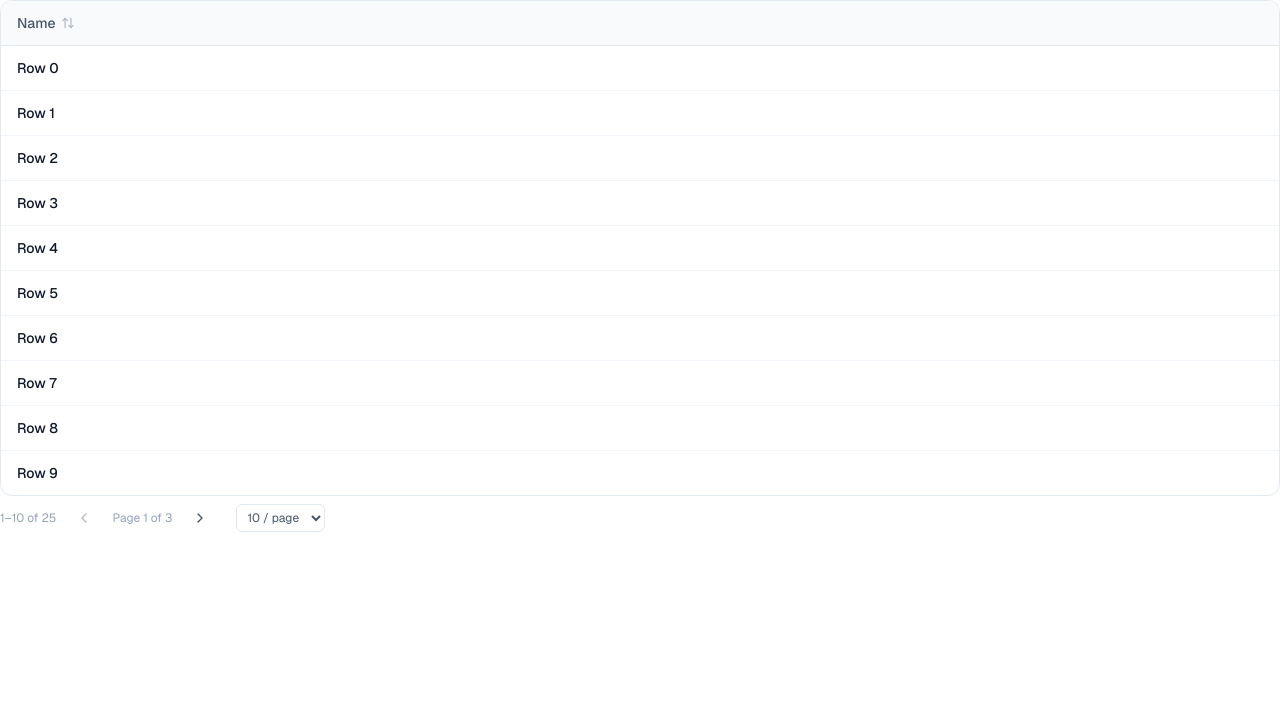
Test: DataTable › changes page size via the rows-per-page selector
The width and height of the screenshot is (1280, 720).
Step 1. Select "25 / page" in the dropdown named "Rows per page" → (281, 518), box 236,504 -> 325,532
(page scrolled)
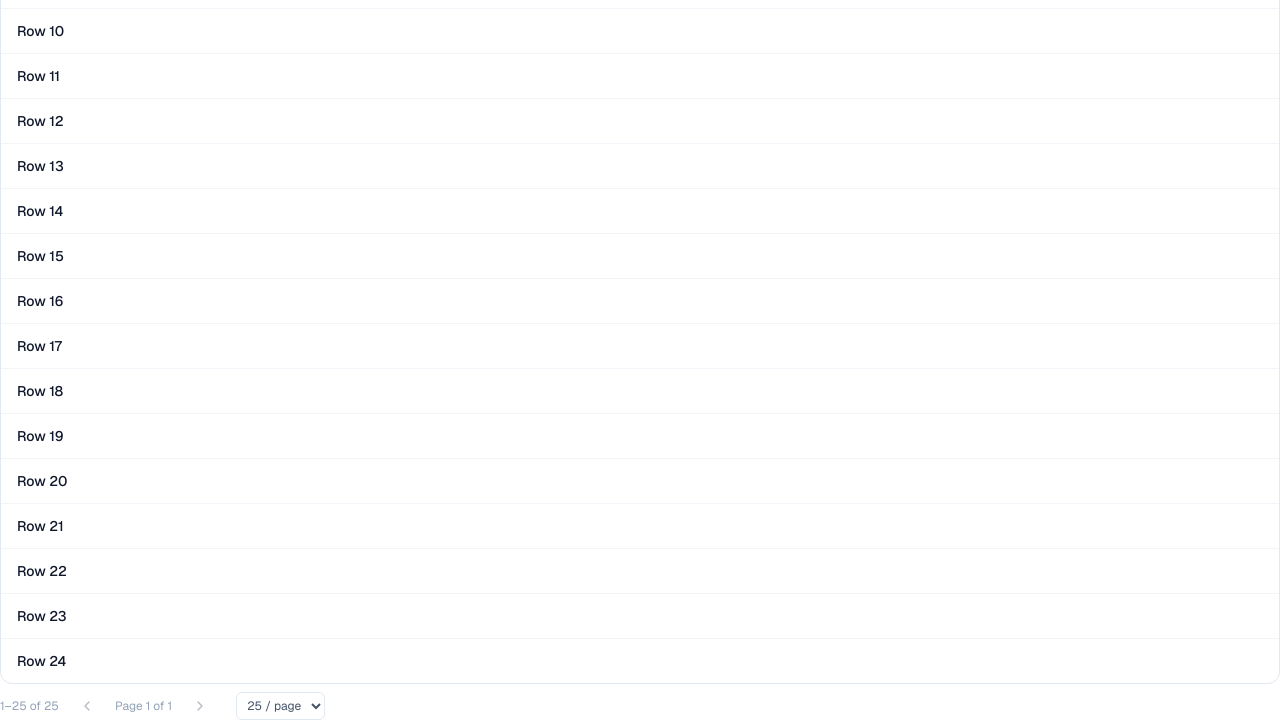
Expected: the text "1–25 of 25" is shown, 0,698 -> 59,714
Expected: the text "Page 1 of 1" is shown, 115,698 -> 172,714
